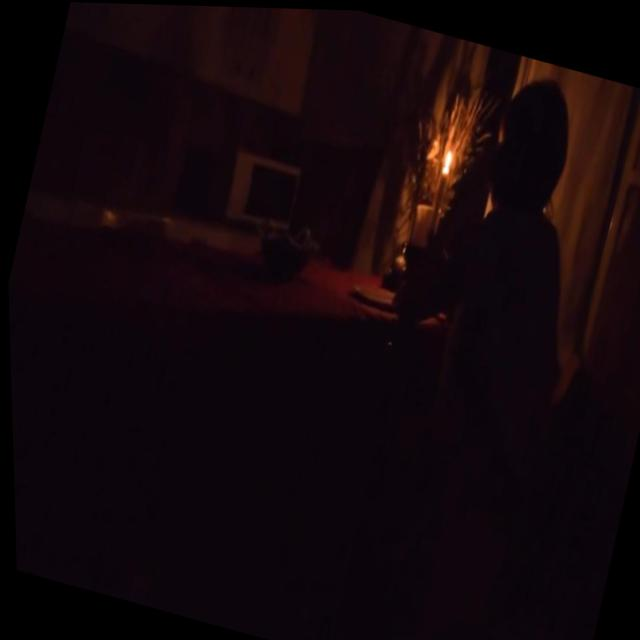fire: (440, 144, 454, 168)
